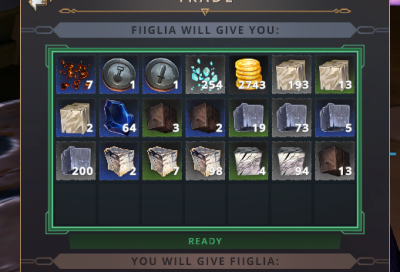chaos ember: (54, 54, 96, 93)
ethereal dust: (186, 55, 225, 93)
gold: (229, 55, 268, 93)
granite stone: (56, 141, 95, 180), (229, 99, 268, 137), (273, 98, 310, 138), (315, 98, 353, 136)
limestone stone: (99, 141, 139, 179), (186, 141, 223, 179), (143, 141, 179, 178)
marble stone: (229, 141, 267, 179), (274, 141, 310, 179)
slate stone: (141, 98, 180, 138), (186, 98, 224, 137), (316, 141, 354, 179)
travertine stone: (272, 54, 311, 93), (56, 98, 95, 137), (315, 54, 353, 93)
